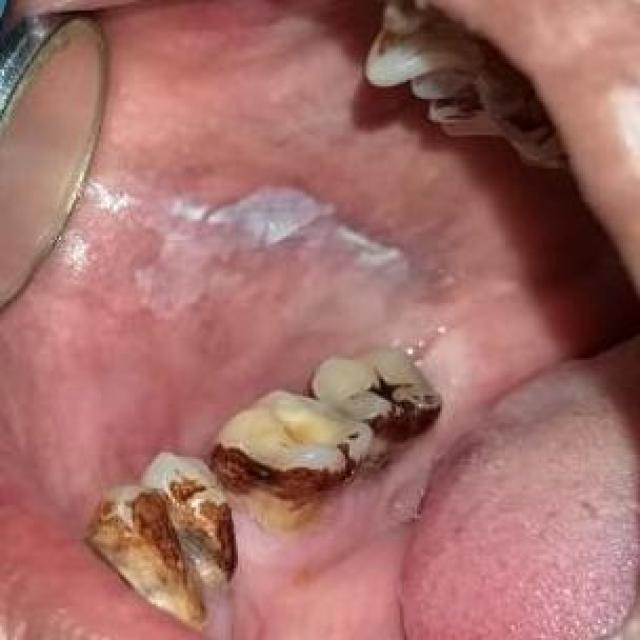leukoplakia-detection: (206, 181, 332, 246), (335, 221, 414, 312)
processing_area: (8, 9, 635, 636)
